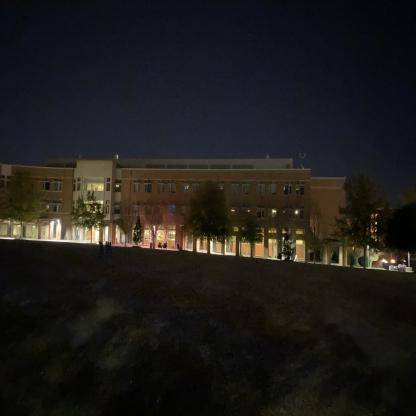eb3: (2, 150, 398, 270)
